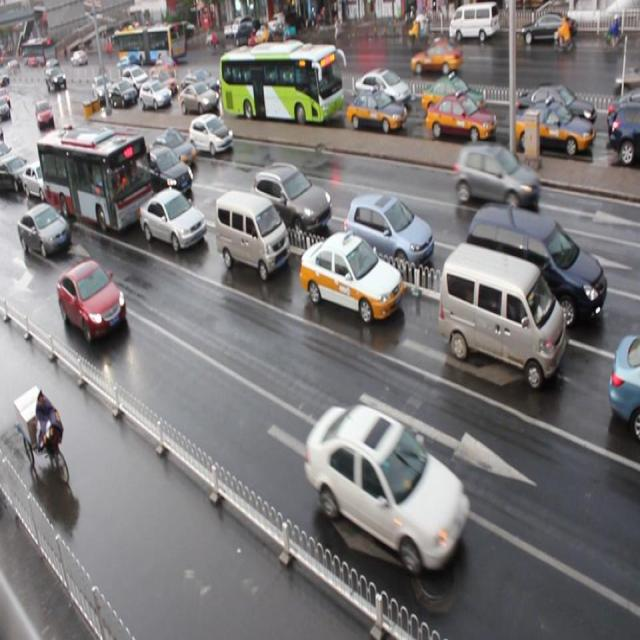car: (306, 402, 470, 576), (298, 228, 402, 322), (342, 194, 433, 278), (453, 143, 538, 217), (57, 260, 128, 344), (251, 162, 331, 234), (513, 99, 593, 157), (137, 186, 205, 251), (425, 92, 495, 142), (607, 331, 640, 436), (512, 84, 587, 129), (141, 144, 193, 202), (423, 74, 488, 120), (18, 203, 71, 258), (345, 86, 405, 133), (354, 69, 409, 111), (608, 98, 640, 160), (190, 114, 233, 158), (154, 126, 198, 169), (21, 158, 59, 202), (606, 92, 640, 138), (178, 82, 219, 116), (252, 68, 289, 103), (1, 152, 31, 193), (139, 78, 170, 113), (188, 69, 224, 98), (61, 122, 86, 158), (146, 68, 174, 96), (108, 80, 135, 108), (122, 65, 148, 93)
truck: (437, 240, 564, 388), (466, 200, 605, 330), (212, 187, 288, 279)
van: (36, 126, 154, 234), (216, 43, 340, 123)
